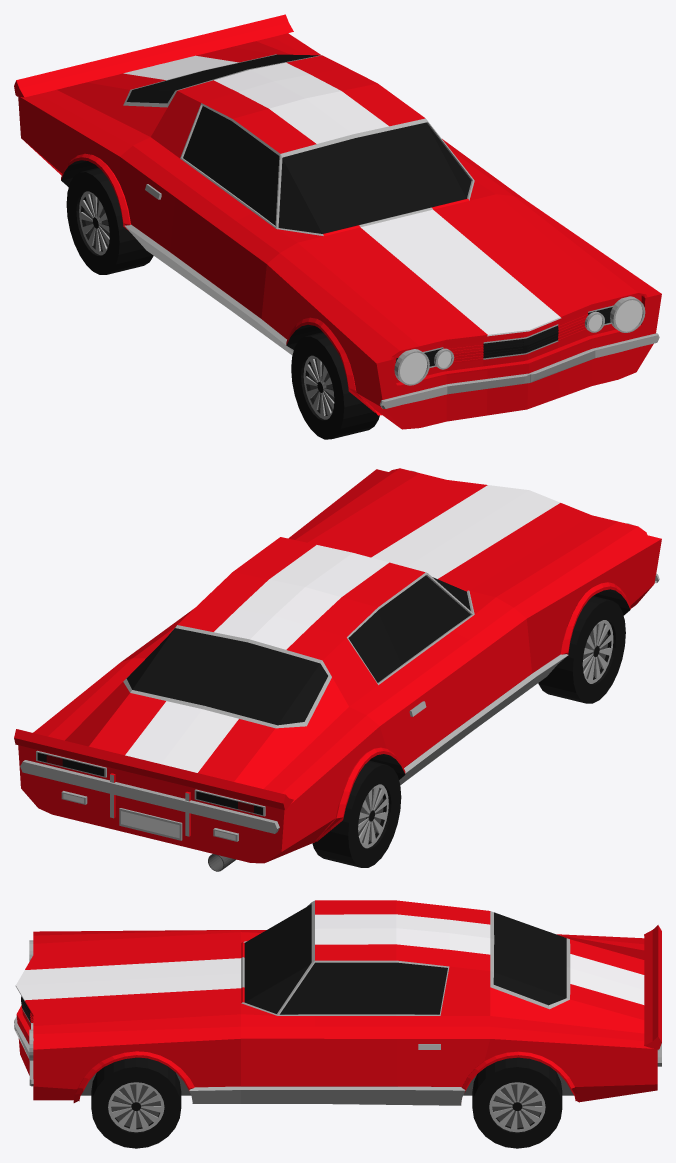
Rendered from camaro.fbx.
The picture shows the model from 3 angles, top to bottom: view 1: azimuth 30°, elevation 25°; view 2: azimuth 150°, elevation 25°; view 3: azimuth 270°, elevation 25°; orthographic projection. The views are drawn at different scales.
Parts seen in each view (by area): view 1: red car; view 2: red car; view 3: red car.
Boxes of the visible parts, x1,y1,x2,y2 form: red car: [14, 14, 661, 439]; red car: [14, 468, 661, 871]; red car: [14, 900, 661, 1148].
Size of the model in its own units: 212 by 136 by 491.
